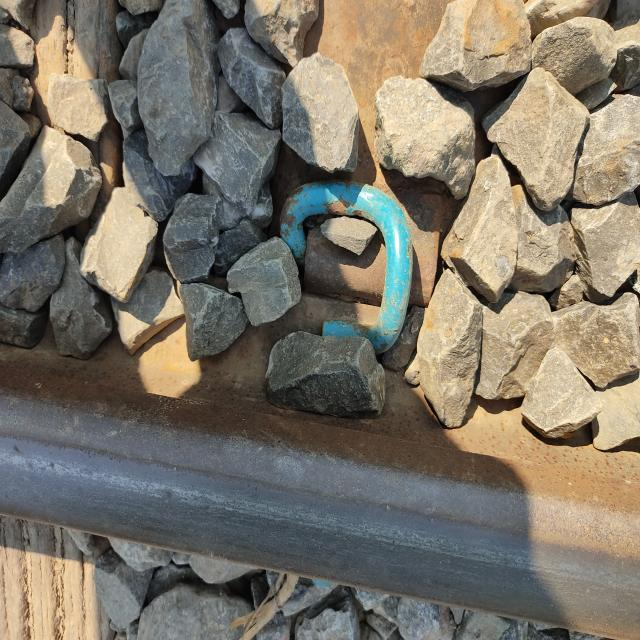Good Fasteners: (280, 180, 440, 354)
